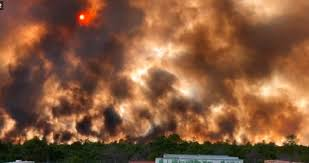smoke: (28, 6, 138, 77), (227, 8, 307, 80)
